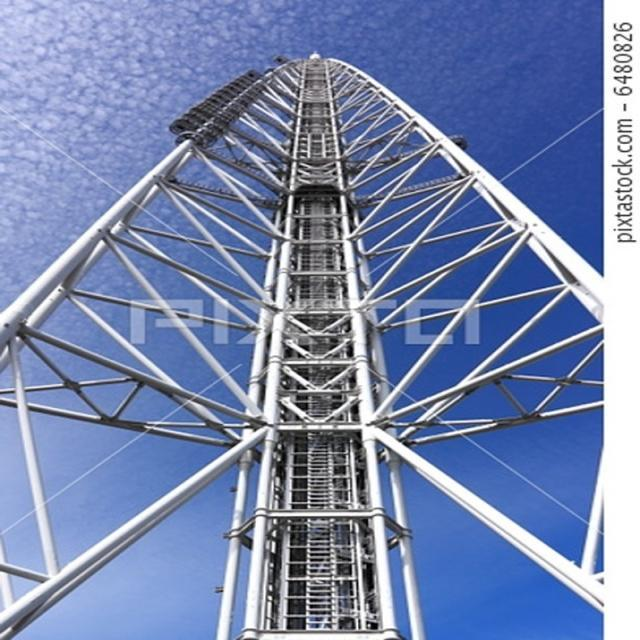non-critical vegetation: (7, 46, 600, 561)
